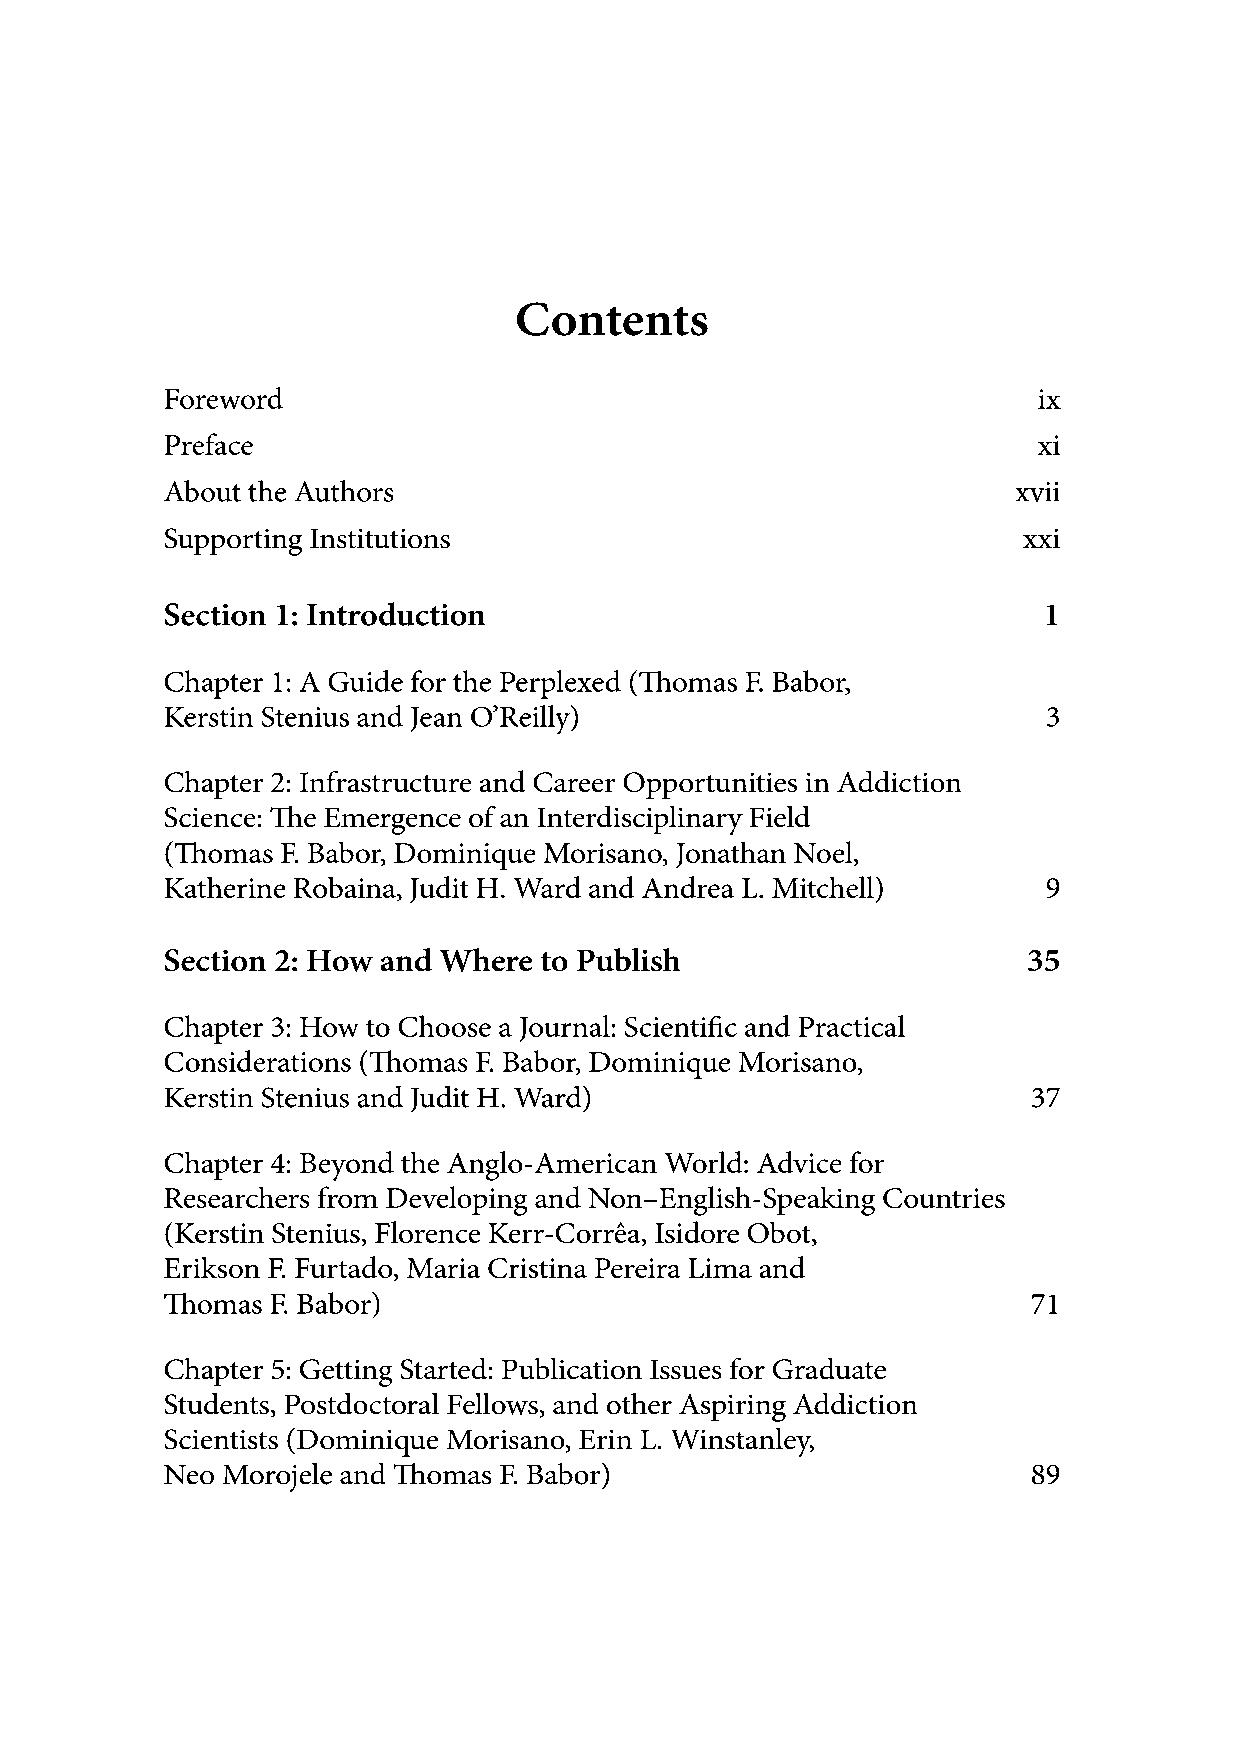TOC_chapter: (162, 1146, 1005, 1318), (162, 768, 964, 903), (161, 1351, 918, 1492), (162, 1011, 909, 1113), (160, 666, 854, 733), (162, 946, 684, 976), (160, 600, 484, 629), (162, 523, 452, 556), (164, 475, 396, 506), (158, 384, 285, 411), (160, 432, 258, 458)
TOC_pagenumber: (1008, 476, 1063, 506), (1017, 527, 1067, 552), (1029, 1457, 1062, 1490), (1028, 1082, 1062, 1113), (1023, 947, 1060, 974), (1027, 1286, 1059, 1315), (1035, 382, 1062, 413), (1035, 432, 1066, 458), (1044, 600, 1062, 631), (1044, 872, 1062, 903), (1044, 703, 1060, 730)
chapter: (509, 294, 711, 341)
